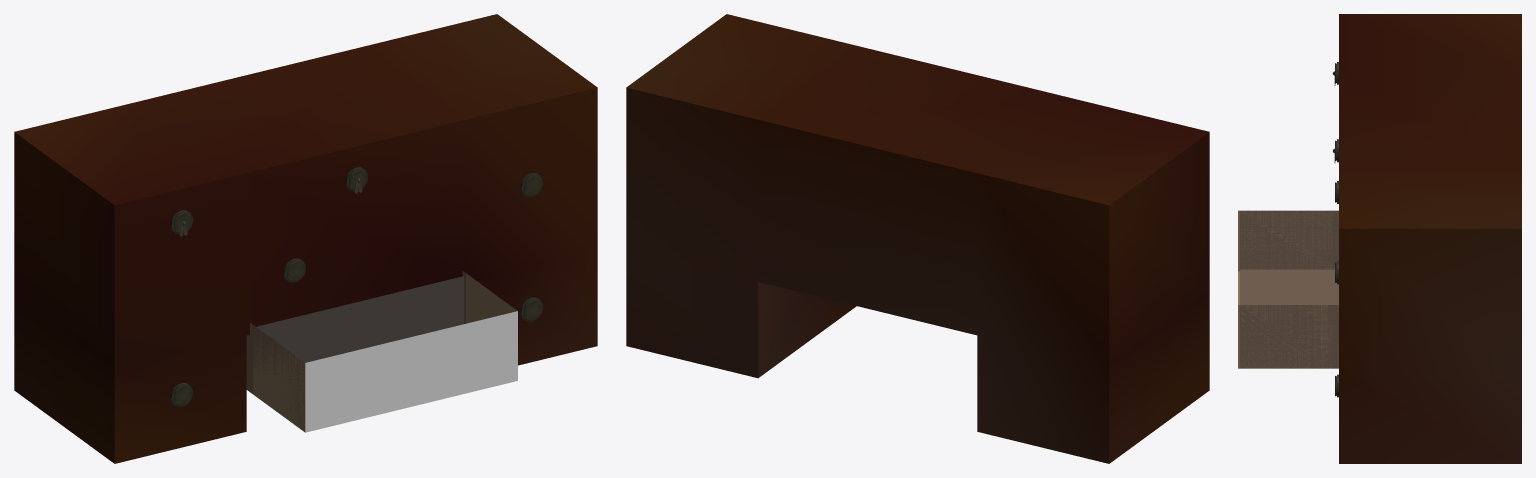
The model's file is opened.glb.
3 views of the same model, side by side, from view 1: azimuth 30°, elevation 25°; view 2: azimuth 150°, elevation 25°; view 3: azimuth 270°, elevation 25° (orthographic). The views are drawn at different scales.
Visible parts, largest first — view 1: Cube_SM_Mungap_0, 속면 (×3), 서랍 앞판; view 2: Cube_SM_Mungap_0; view 3: Cube_SM_Mungap_0, 속면 (×2).
Part boxes in pixels (left/top/right/bottom): Cube_SM_Mungap_0: left=14, top=14, right=597, bottom=463; 속면 (×3): left=246, top=271, right=517, bottom=432; 서랍 앞판: left=305, top=311, right=517, bottom=432; Cube_SM_Mungap_0: left=626, top=14, right=1209, bottom=463; Cube_SM_Mungap_0: left=1332, top=14, right=1521, bottom=463; 속면 (×2): left=1238, top=210, right=1338, bottom=368.
Bounding box in the file's own units: 0.999 × 0.511 × 0.5583.
